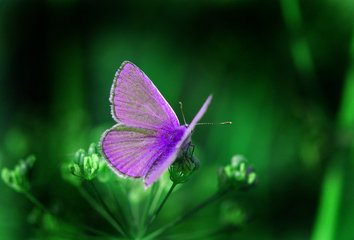insect: (100, 60, 214, 189)
